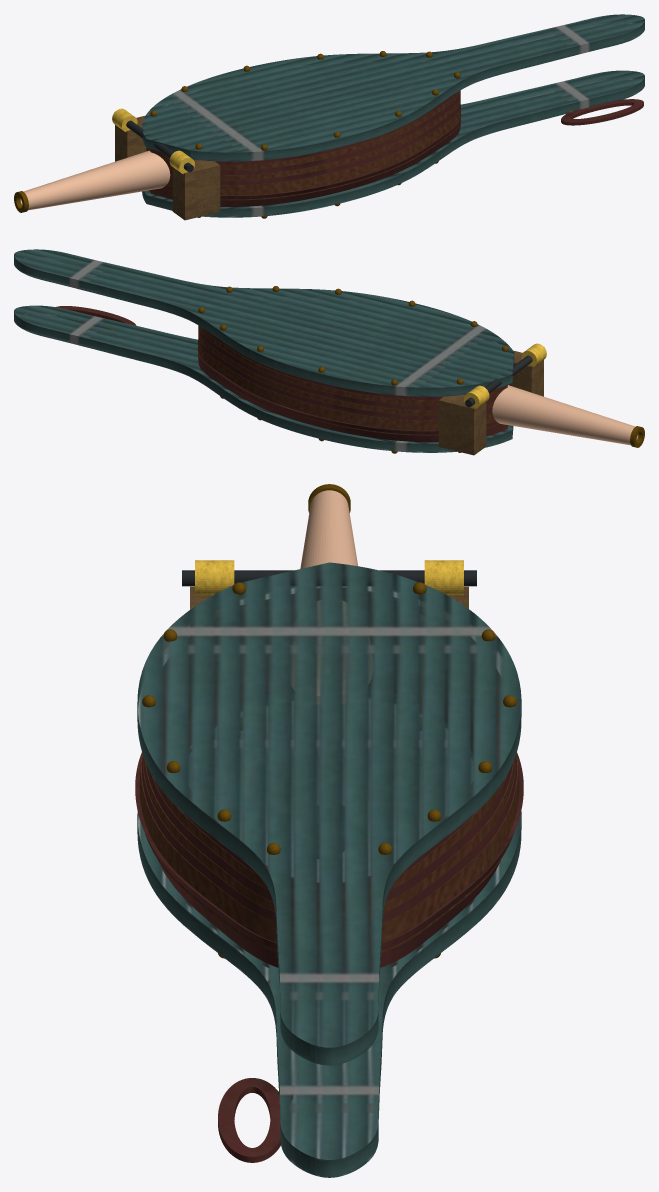
Rendered from pictureX_0611_Air_blower__0131.glb.
3 views of the same model, one above another, from view 1: azimuth 30°, elevation 25°; view 2: azimuth 150°, elevation 25°; view 3: azimuth 270°, elevation 25° (orthographic). The views are drawn at different scales.
Parts seen in each view (by area): view 1: upper_board::wood_panel, lower_board::wood_panel, lower_board::nozzle_shell, bellows_fold_0::fold_shell, lower_board::bellows_lower_collar, lower_board::hinge_support_0, bellows_fold_4::fold_shell, bellows_fold_3::fold_shell, bellows_fold_2::fold_shell, bellows_fold_1::fold_shell, lower_board::wrist_strap, bellows_fold_5::fold_shell (+4 smaller); view 2: upper_board::wood_panel, lower_board::wood_panel, lower_board::nozzle_shell, bellows_fold_0::fold_shell, lower_board::bellows_lower_collar, lower_board::hinge_support_1, bellows_fold_4::fold_shell, bellows_fold_2::fold_shell, bellows_fold_3::fold_shell, bellows_fold_1::fold_shell, lower_board::hinge_support_0, bellows_fold_5::fold_shell (+4 smaller); view 3: upper_board::wood_panel, lower_board::wood_panel, bellows_fold_0::fold_shell, lower_board::bellows_lower_collar, lower_board::nozzle_shell, bellows_fold_1::fold_shell, bellows_fold_2::fold_shell, bellows_fold_3::fold_shell, lower_board::wrist_strap, bellows_fold_4::fold_shell, bellows_fold_5::fold_shell, upper_board::pivot_pin (+2 smaller).
Boxes of the visible parts, x1,y1,x2,y2 form: upper_board::wood_panel: (142, 14, 644, 161); lower_board::wood_panel: (142, 70, 644, 217); lower_board::nozzle_shell: (20, 150, 170, 210); bellows_fold_0::fold_shell: (160, 104, 460, 200); lower_board::bellows_lower_collar: (148, 117, 460, 208); lower_board::hinge_support_0: (172, 160, 220, 220); bellows_fold_4::fold_shell: (147, 90, 460, 169); bellows_fold_3::fold_shell: (146, 91, 460, 174); bellows_fold_2::fold_shell: (168, 97, 460, 179); bellows_fold_1::fold_shell: (170, 102, 460, 185); lower_board::wrist_strap: (561, 99, 643, 125); bellows_fold_5::fold_shell: (149, 92, 457, 164); upper_board::wood_panel: (14, 249, 514, 396); lower_board::wood_panel: (14, 305, 513, 452); lower_board::nozzle_shell: (492, 385, 638, 445); bellows_fold_0::fold_shell: (198, 339, 500, 435); lower_board::bellows_lower_collar: (198, 352, 507, 443); lower_board::hinge_support_1: (438, 395, 486, 455); bellows_fold_4::fold_shell: (198, 325, 507, 405); bellows_fold_2::fold_shell: (198, 332, 509, 415); bellows_fold_3::fold_shell: (198, 326, 508, 410); bellows_fold_1::fold_shell: (198, 337, 510, 422); lower_board::hinge_support_0: (510, 350, 543, 396); bellows_fold_5::fold_shell: (201, 327, 507, 400); upper_board::wood_panel: (137, 562, 521, 1065); lower_board::wood_panel: (137, 691, 521, 1177); bellows_fold_0::fold_shell: (139, 668, 519, 960); lower_board::bellows_lower_collar: (135, 673, 523, 972); lower_board::nozzle_shell: (291, 490, 371, 704); bellows_fold_1::fold_shell: (142, 659, 516, 930); bellows_fold_2::fold_shell: (143, 642, 515, 921); bellows_fold_3::fold_shell: (146, 636, 512, 911); lower_board::wrist_strap: (218, 1078, 280, 1162); bellows_fold_4::fold_shell: (153, 623, 504, 901); bellows_fold_5::fold_shell: (162, 587, 499, 892); upper_board::pivot_pin: (182, 570, 476, 586).
Bounding box in the file's own units: 0.879 × 0.108 × 0.2369.
9 materials, 8 textured.
